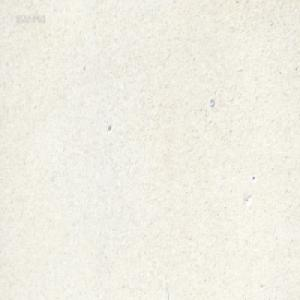Washer: (209, 97, 215, 107)
